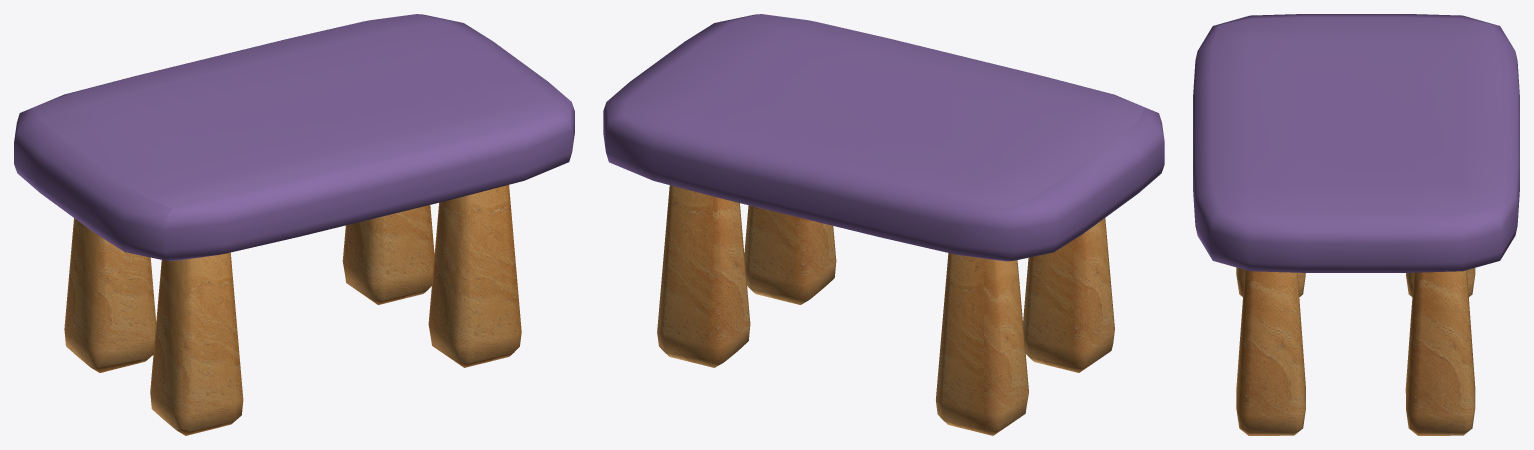
File: table.glb
The picture shows the model from 3 angles, left to right: view 1: azimuth 30°, elevation 25°; view 2: azimuth 150°, elevation 25°; view 3: azimuth 270°, elevation 25°; orthographic projection.
Parts seen in each view (by area): view 1: Table; view 2: Table; view 3: Table.
Part boxes in pixels (x1=…): Table: x1=14, y1=14, x2=574, y2=435; Table: x1=603, y1=14, x2=1164, y2=435; Table: x1=1193, y1=14, x2=1519, y2=435.
Size of what is drawn, in the model's own units: 2.66 by 1.38 by 1.66.
2 materials, 2 textured.
